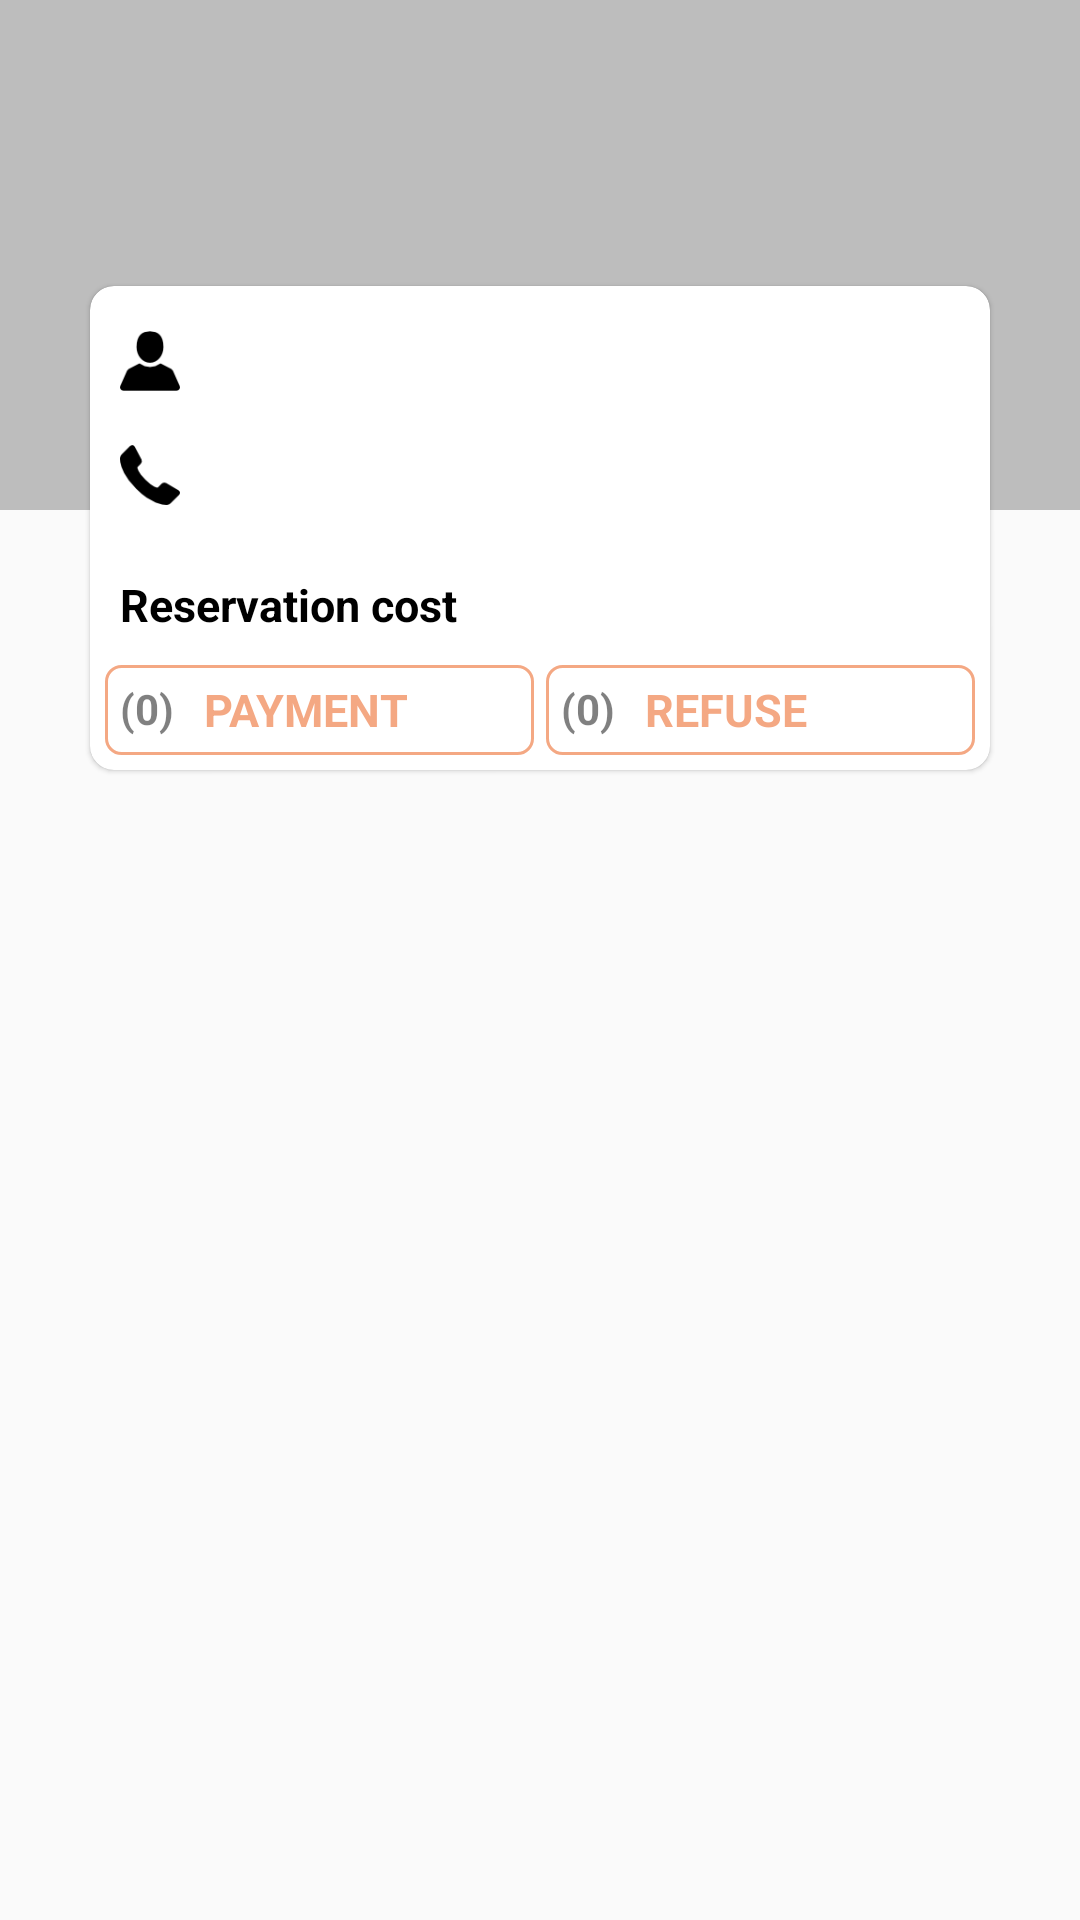

Named icons in this screenshot (1080*1920) and their centers, (x=x, y=y):
phone: (x=150, y=475)
user: (x=150, y=361)
